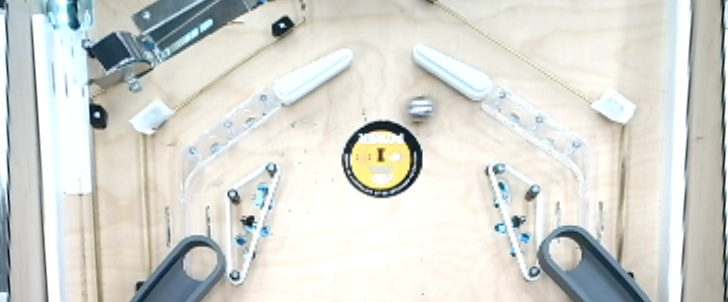ball: (406, 93, 440, 129)
flipper-left: (408, 41, 502, 111)
flipper-right: (272, 44, 359, 111)
